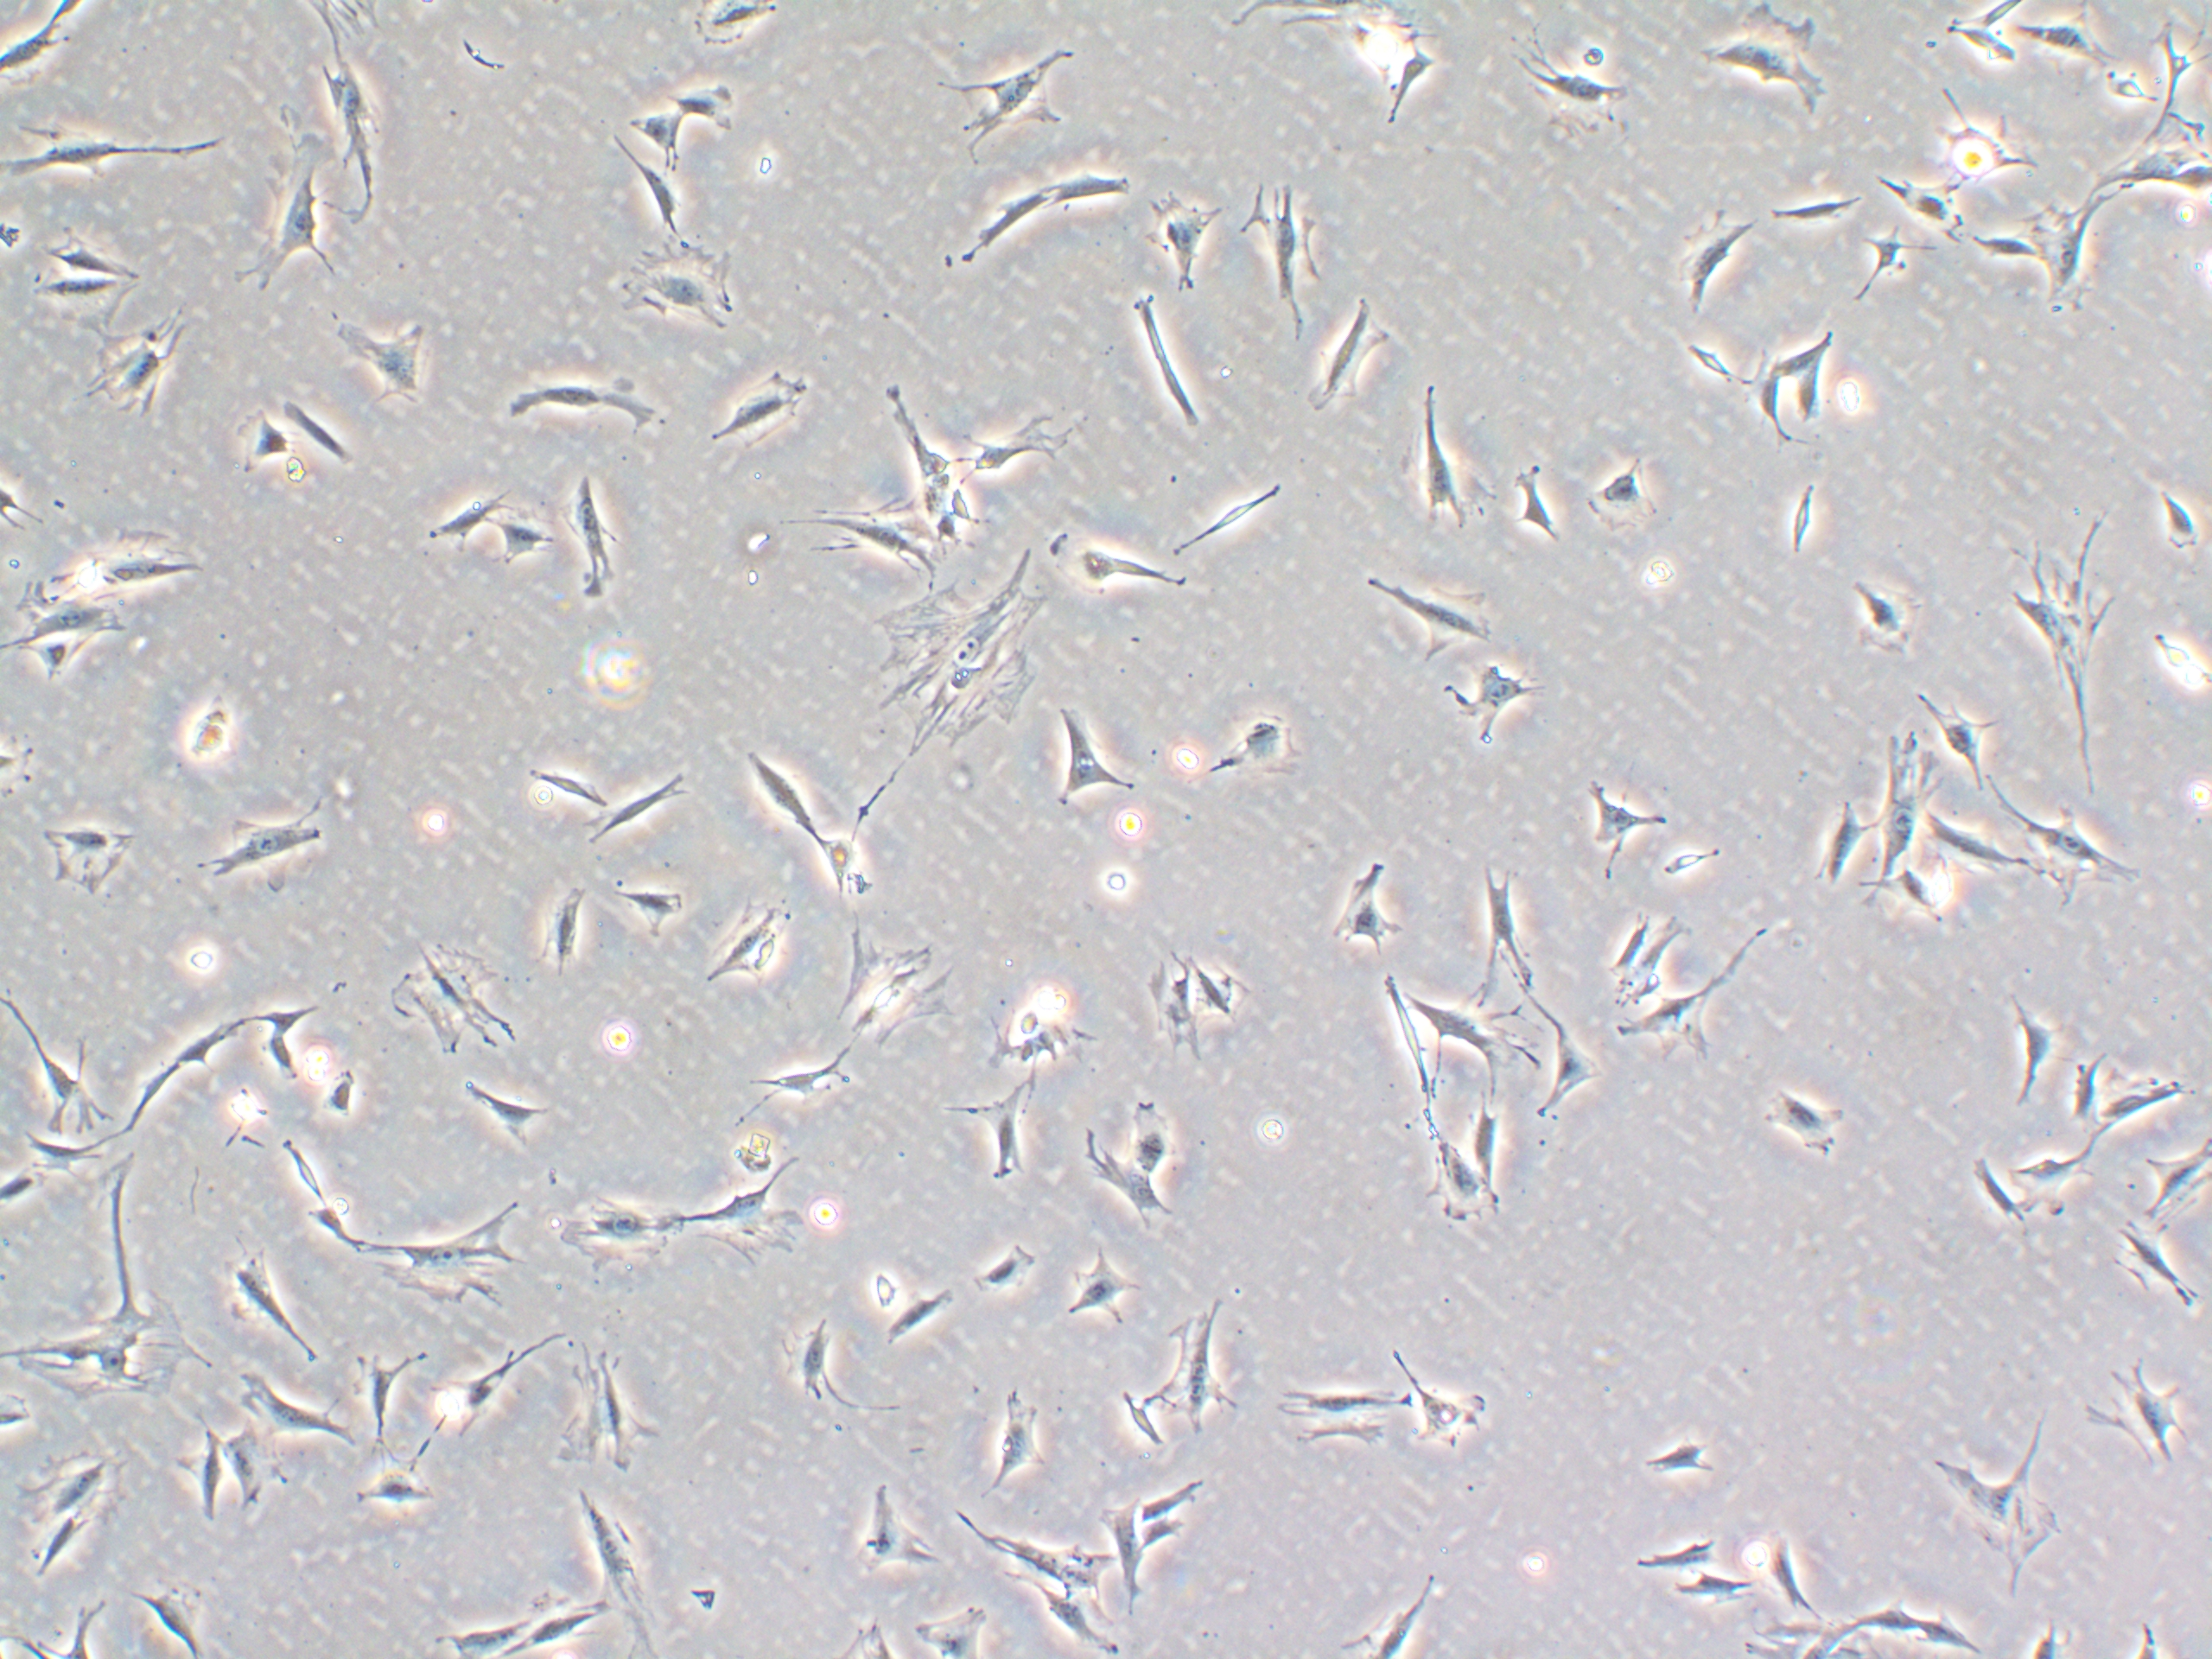small: (1622, 1417, 1726, 1483), (808, 835, 876, 913), (1653, 836, 1740, 877), (859, 1249, 899, 1310)
spread: (853, 538, 1066, 758), (354, 864, 517, 1072), (1925, 1384, 2055, 1586), (1662, 2, 1836, 136), (14, 1290, 206, 1412), (235, 106, 343, 296), (343, 1206, 523, 1317), (611, 227, 770, 349), (812, 924, 965, 1039), (547, 1323, 662, 1474), (331, 314, 465, 430), (554, 1183, 681, 1291)
